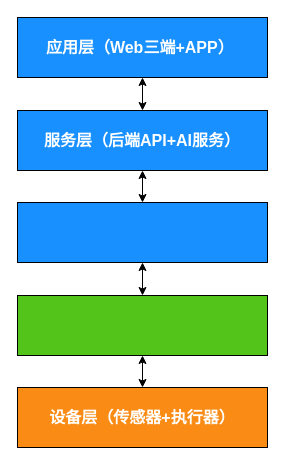
Some shapes in this 285 by 465 pixel diagram are drawn without their labels. Here are the shapes that lost their labels. From the top down, the centre of each, then its label:
At (142,232): "平台层（MQTT Broker+数据库）".
At (142,325): "边缘层（三类ESP32终端）".
